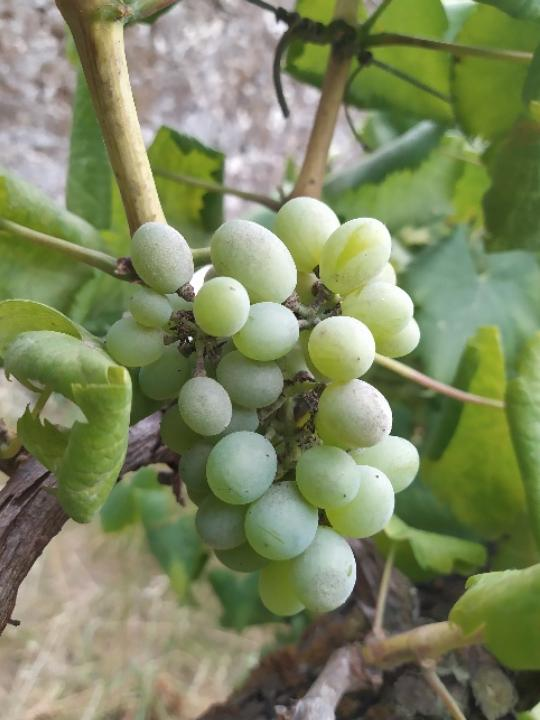grape: (101, 193, 425, 621)
